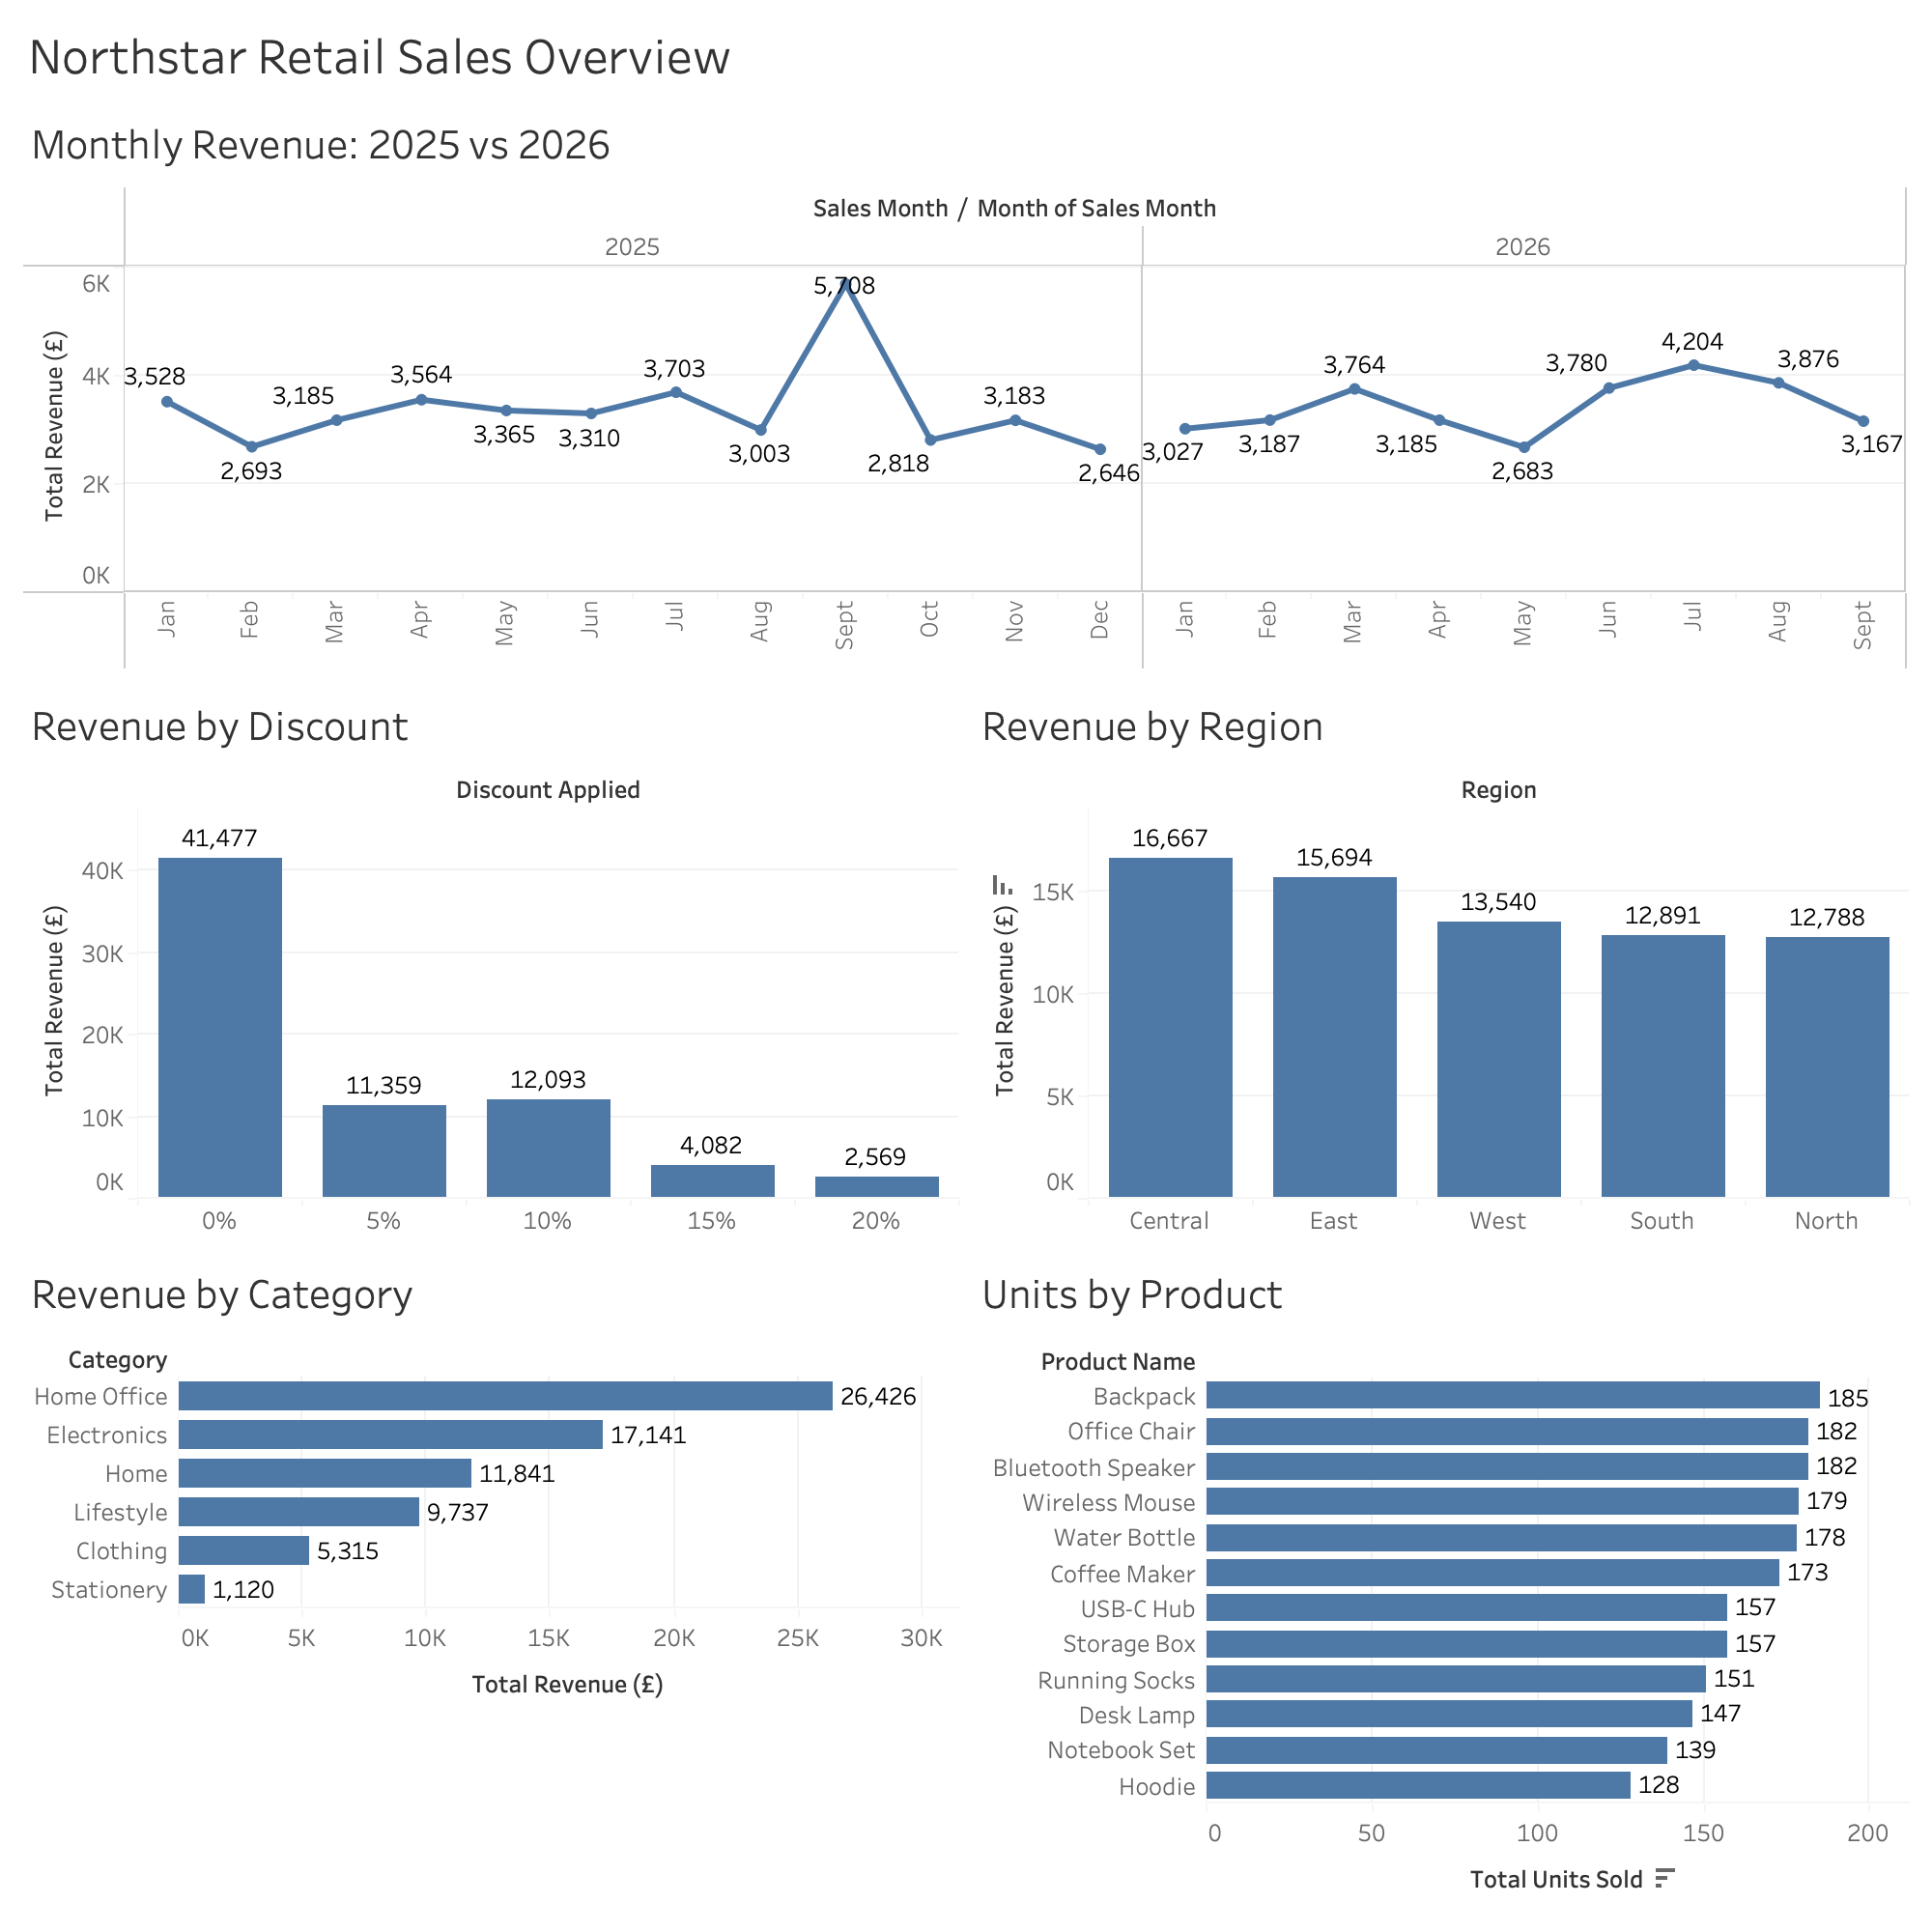

The dashboard page shown, as its layout file describes it:
{"tool":"tableau","page":{"name":"Northstar Retail Sales Overview","canvas":[1000,1000],"ordinal":0},"visuals":[{"type":"title","box":[8,8,984,42]},{"type":"worksheet","title":"Monthly Revenue","mark":"Automatic","rows":["total_revenue"],"cols":["sales_month","sales_month"],"box":[8,50,984,301]},{"type":"worksheet","title":"Revenue by Discount","mark":"Bar","rows":["total_revenue"],"cols":["discount_pct"],"box":[8,351,492,294]},{"type":"worksheet","title":"Revenue by Region","mark":"Automatic","rows":["total_revenue"],"cols":["region"],"box":[500,351,492,294]},{"type":"worksheet","title":"Revenue by Category","mark":"Automatic","rows":["category"],"cols":["total_revenue"],"box":[8,645,492,347]},{"type":"worksheet","title":"Units by Product","mark":"Automatic","rows":["product_name"],"cols":["total_units_sold"],"box":[500,645,492,347]}]}

Visuals, with their boxes in screenshot pixels (x1, y1, x2, y2), scaled from the page's 1000x1000 canvas onto the 1932x1932 screenshot:
title: <box>15,15,1917,97</box>
"Monthly Revenue" worksheet: <box>15,97,1917,678</box>
"Revenue by Discount" worksheet (Bar marks): <box>15,678,966,1246</box>
"Revenue by Region" worksheet: <box>966,678,1917,1246</box>
"Revenue by Category" worksheet: <box>15,1246,966,1917</box>
"Units by Product" worksheet: <box>966,1246,1917,1917</box>
